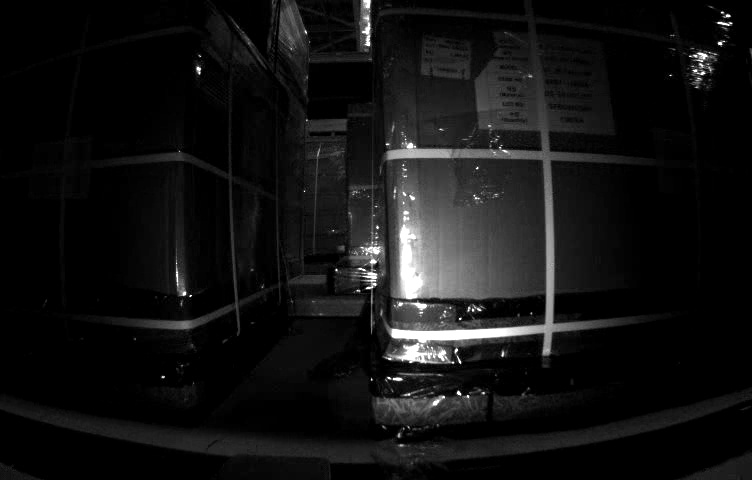True Barcode: (420, 35, 471, 79)
